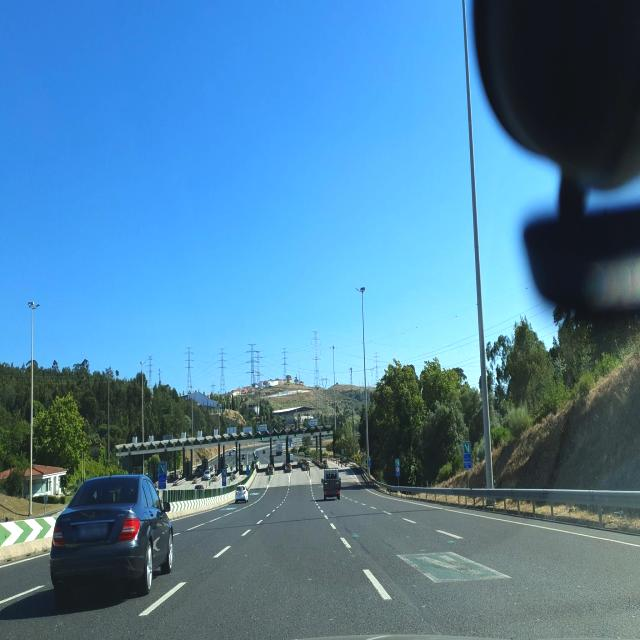car: (49, 473, 174, 598), (322, 467, 341, 501), (234, 483, 248, 503), (257, 460, 271, 474), (301, 458, 311, 472)
